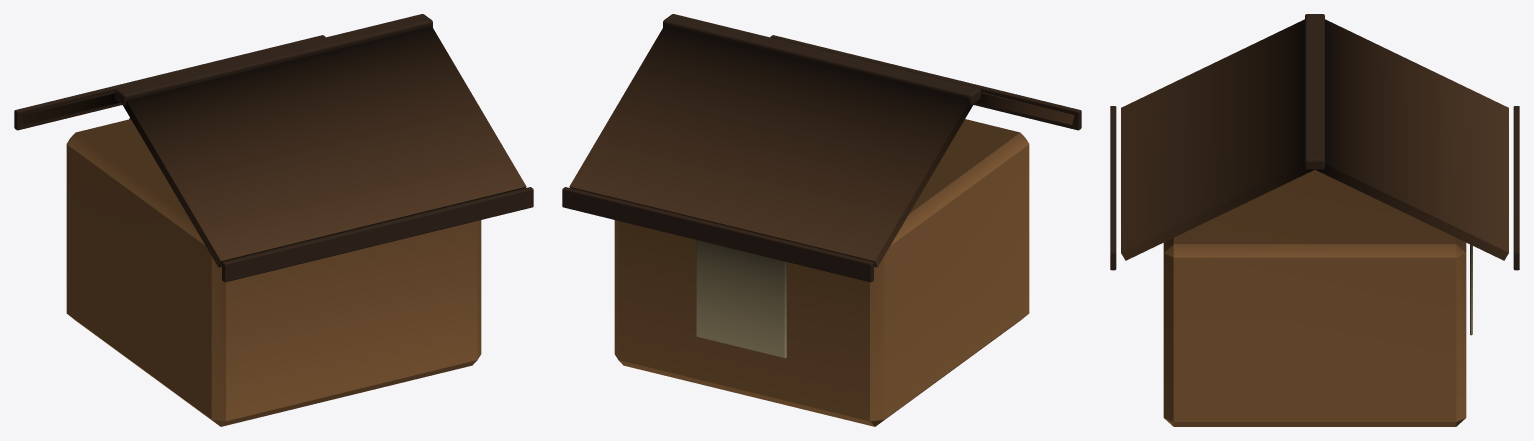
Rendered from house_records.glb.
3 renders of one model, left to right at view 1: azimuth 30°, elevation 25°; view 2: azimuth 150°, elevation 25°; view 3: azimuth 270°, elevation 25°, orthographic. The views are drawn at different scales.
Visible parts, largest first — view 1: house_records; view 2: house_records; view 3: house_records.
Boxes of the visible parts, x1,y1,x2,y2 form: house_records: (14,14,533,426); house_records: (562,14,1081,426); house_records: (1110,14,1519,426).
Bounding box in the file's own units: 1.72 × 1.54 × 2.03.
